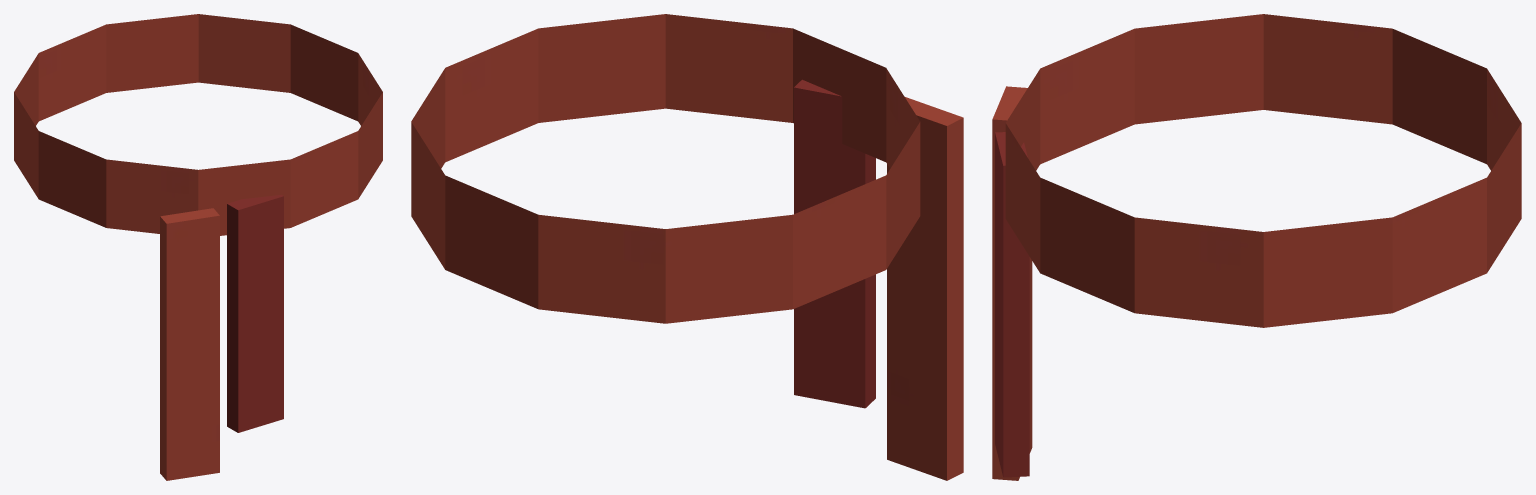
File: acc_sash.glb
The picture shows the model from 3 angles, left to right: view 1: azimuth 30°, elevation 25°; view 2: azimuth 150°, elevation 25°; view 3: azimuth 270°, elevation 25°; orthographic projection. The views are drawn at different scales.
Visible parts, largest first — view 1: acc_sash; view 2: acc_sash; view 3: acc_sash.
Part boxes in pixels (x1,y1,x2,y2): acc_sash: (14,14,382,480); acc_sash: (411,14,963,480); acc_sash: (992,14,1521,480).
Bounding box in the file's own units: 0.39 × 0.34 × 0.4001.
2 materials, 1 textured.
